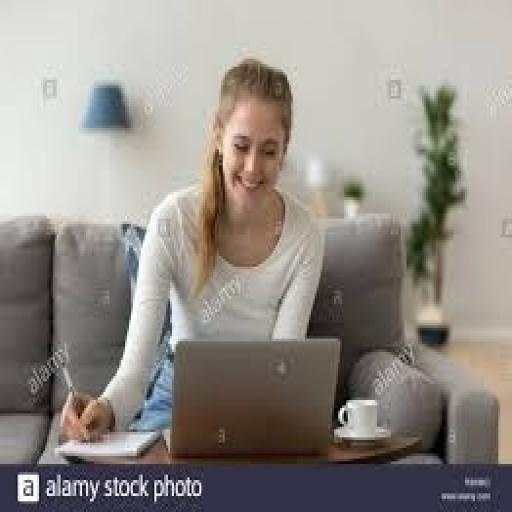sitting: (59, 56, 326, 445)
